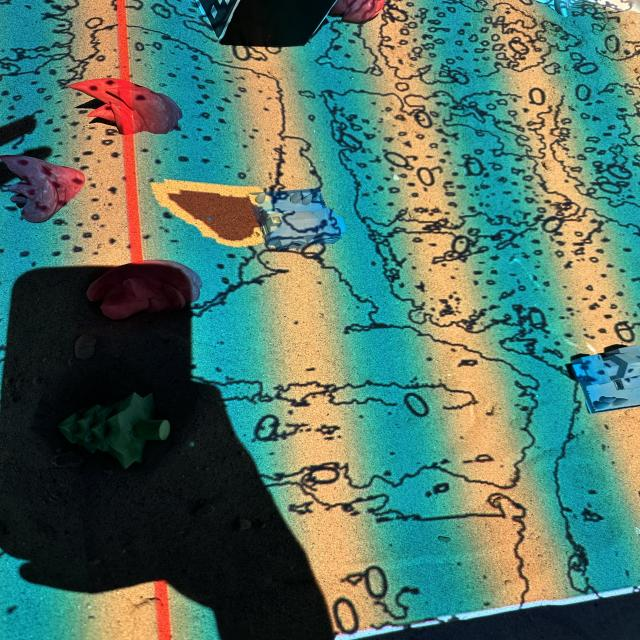fire: (85, 259, 202, 319), (66, 77, 183, 135), (0, 153, 85, 223), (329, 0, 386, 19)
house: (250, 188, 344, 250), (566, 344, 640, 415)
tree: (55, 390, 170, 471)
